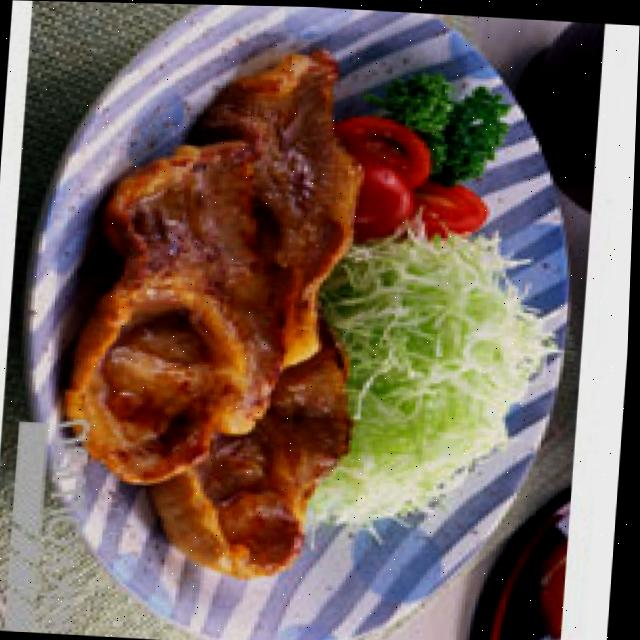猪肉菜式: (78, 27, 410, 598)
